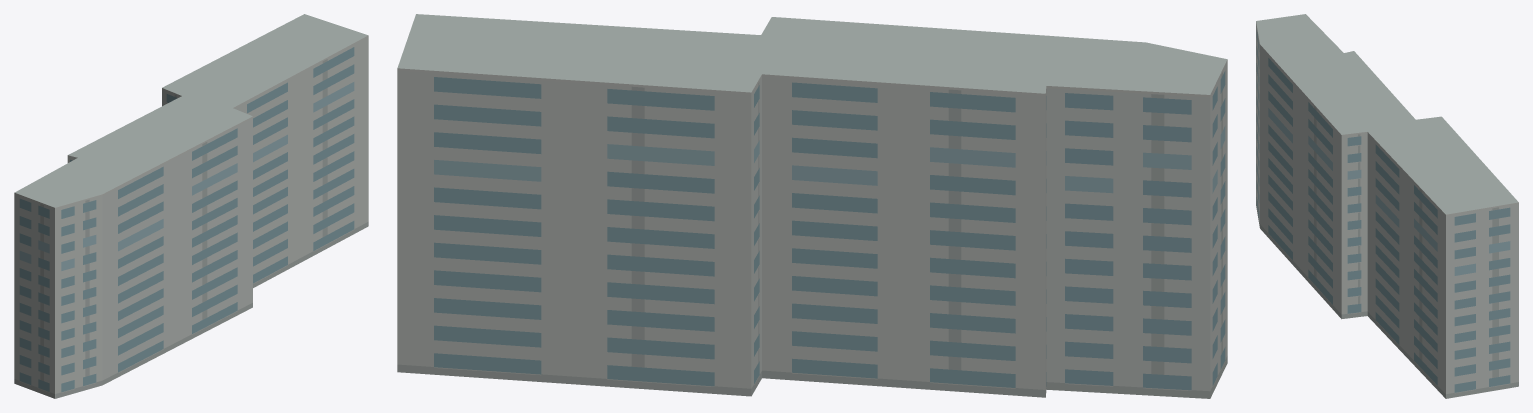
Rendered from residential-9a57bce5-b5db-48e5-9d29-82514b8622ef.glb.
3 renders of one model, left to right at view 1: azimuth 30°, elevation 25°; view 2: azimuth 150°, elevation 25°; view 3: azimuth 270°, elevation 25°, orthographic. The views are drawn at different scales.
Parts seen in each view (by area): view 1: residential-9a57bce5-b5db-48e5-9d29-82514b8622ef.tmp; view 2: residential-9a57bce5-b5db-48e5-9d29-82514b8622ef.tmp; view 3: residential-9a57bce5-b5db-48e5-9d29-82514b8622ef.tmp.
Boxes of the visible parts, x1,y1,x2,y2 form: residential-9a57bce5-b5db-48e5-9d29-82514b8622ef.tmp: (14, 14, 368, 398); residential-9a57bce5-b5db-48e5-9d29-82514b8622ef.tmp: (397, 14, 1227, 398); residential-9a57bce5-b5db-48e5-9d29-82514b8622ef.tmp: (1256, 14, 1518, 398).
Bounding box in the file's own units: 72.45 × 31 × 40.1.
